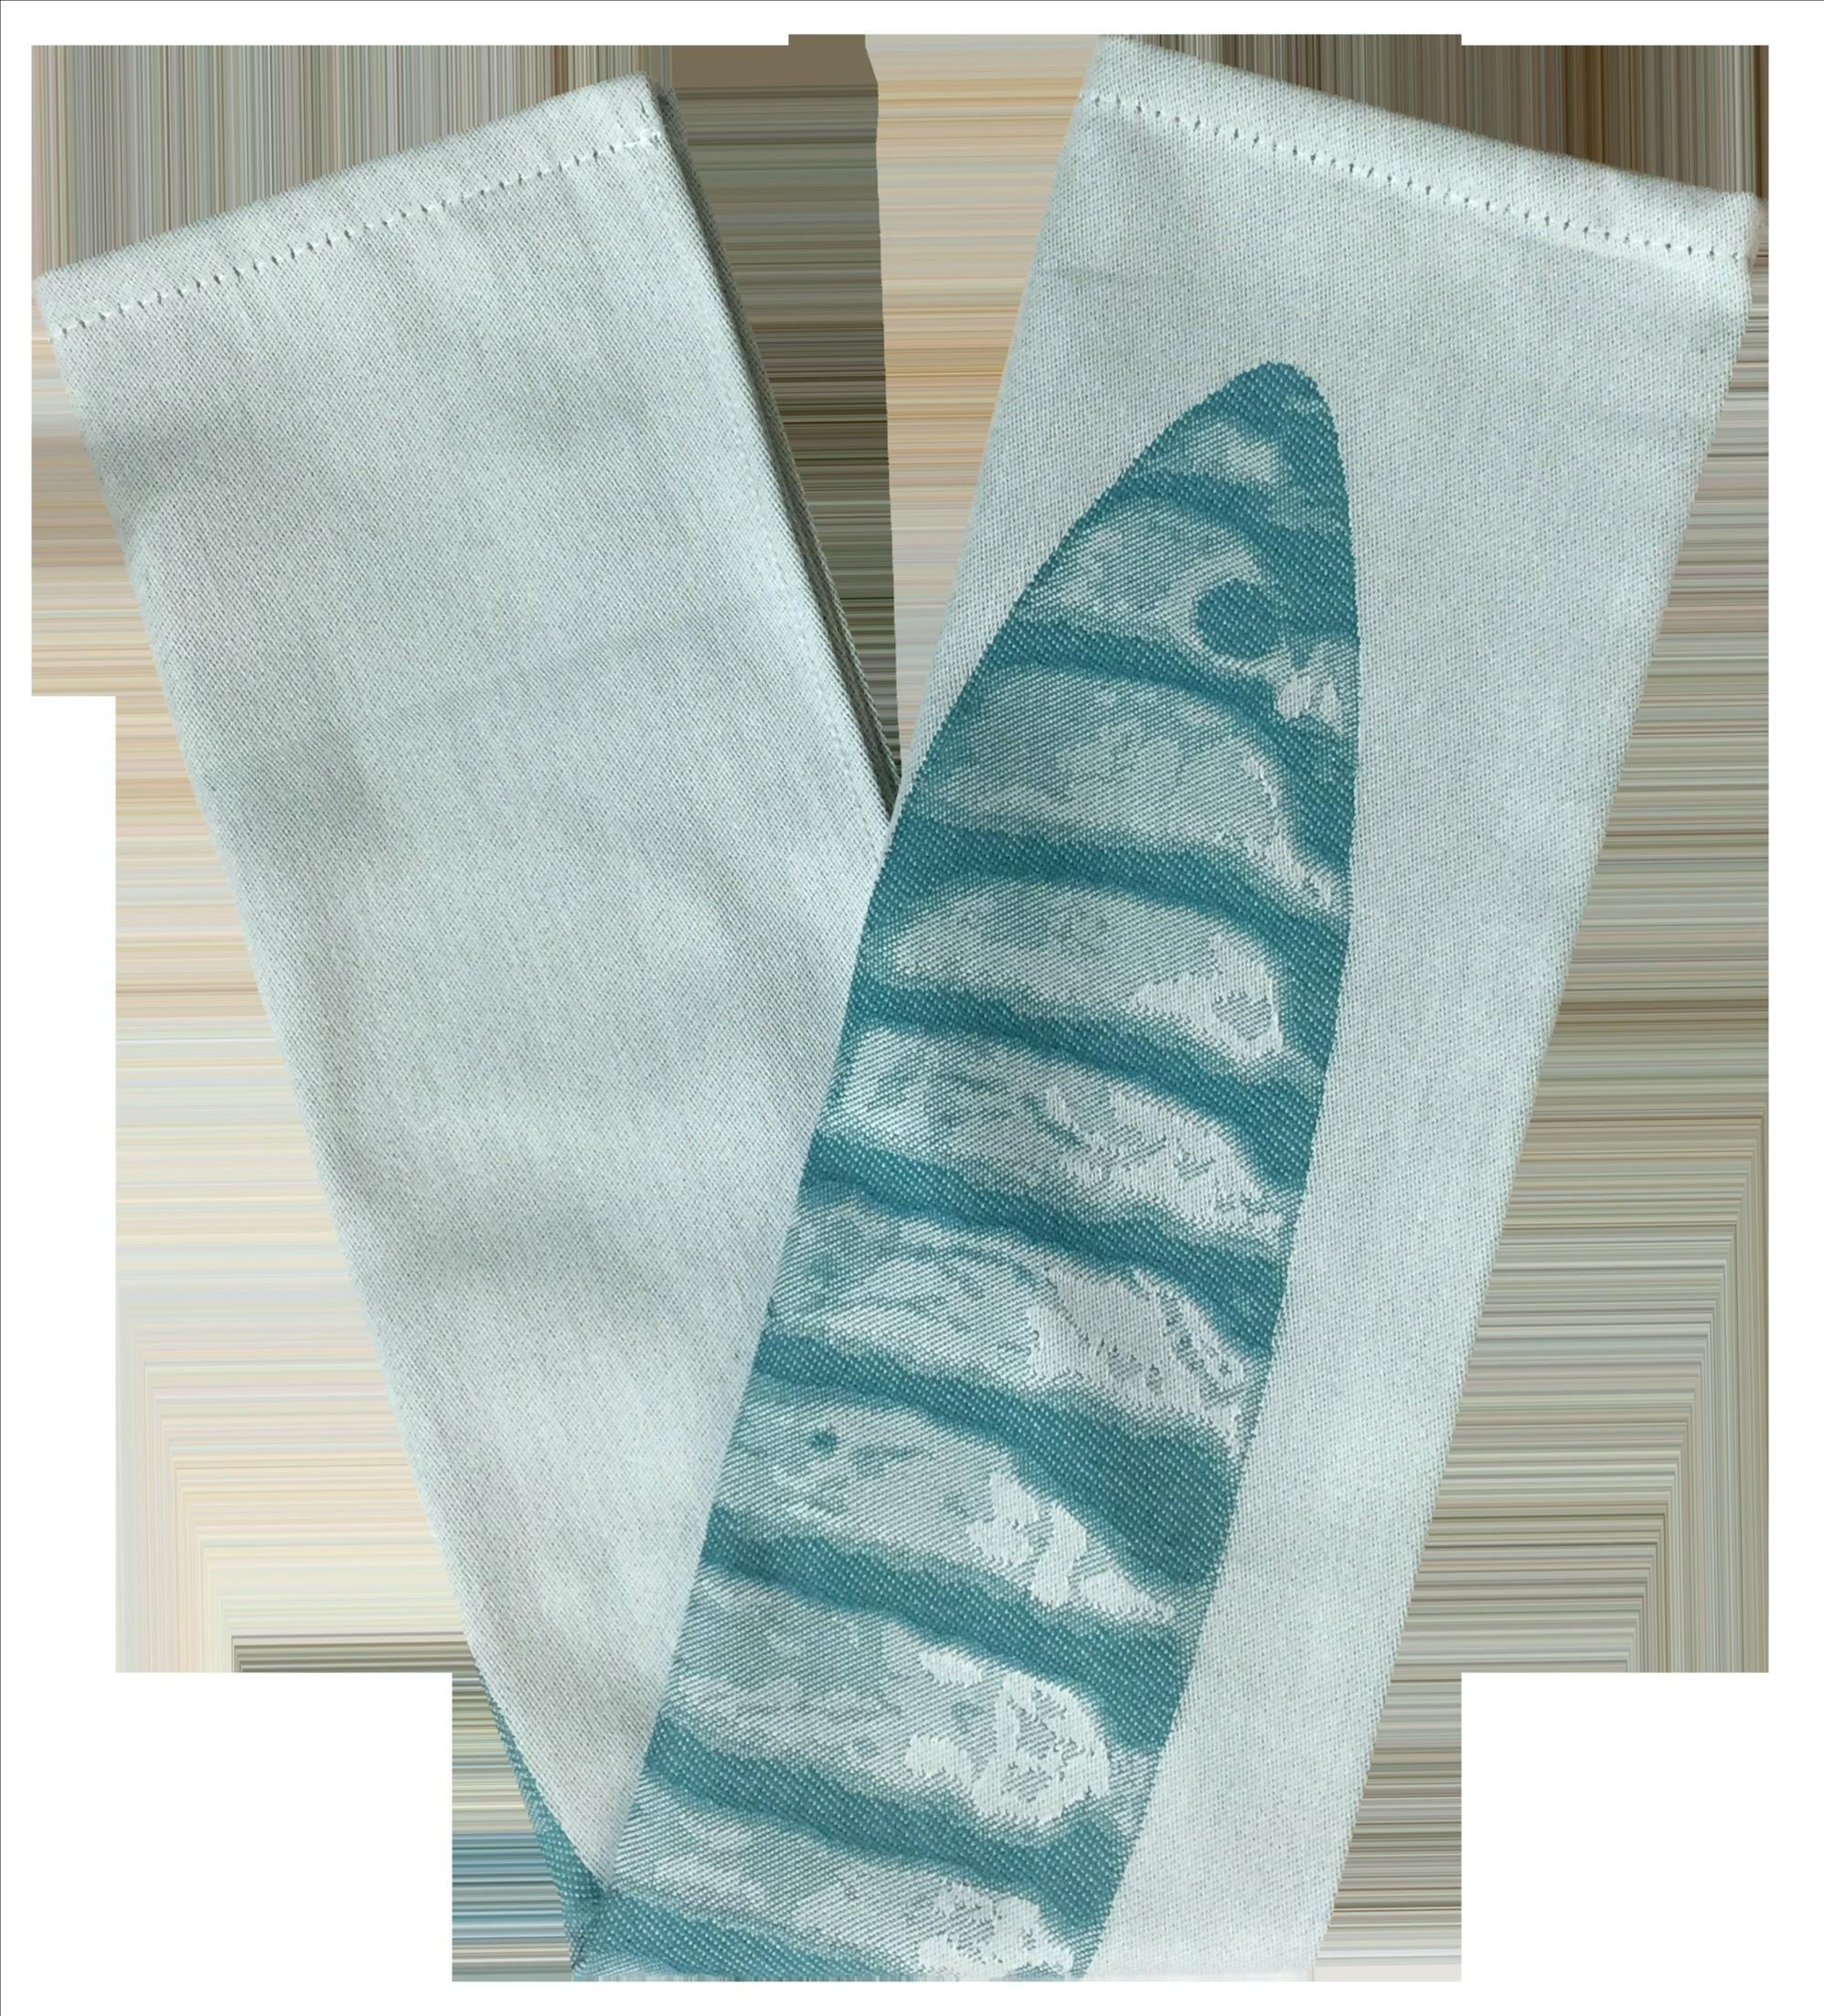towel: (804, 51, 1761, 1609)
